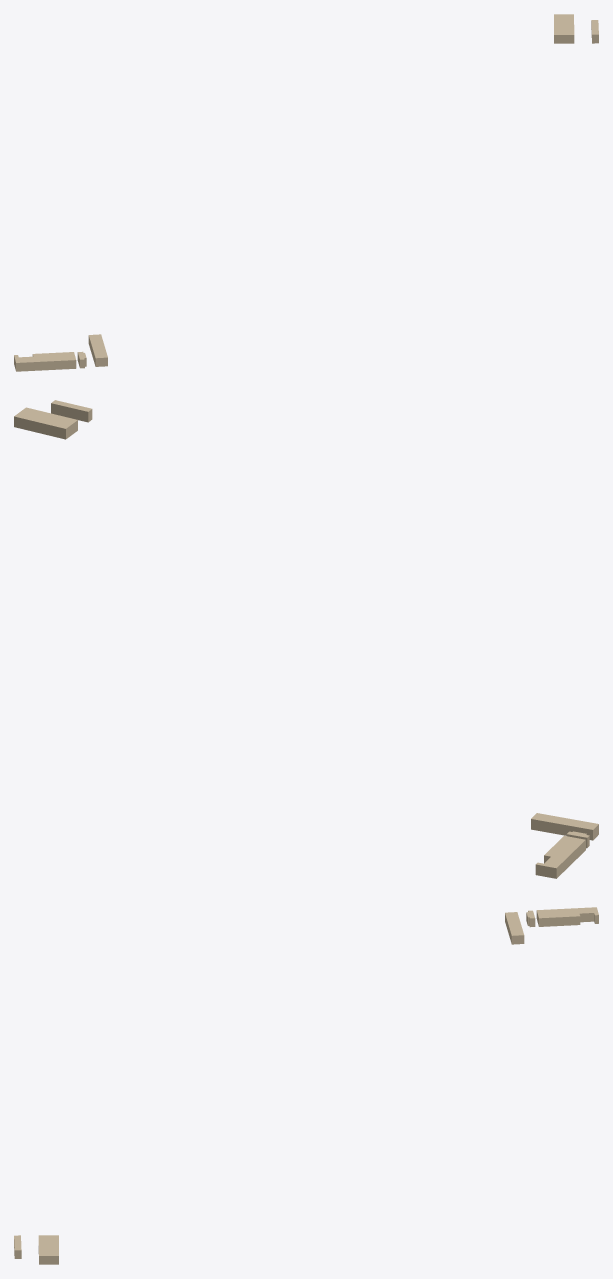
Rendered from -19_28-estimated-coarse.glb.
3 renders of one model, top to bottom at view 1: azimuth 90°, elevation 25°; view 2: azimuth 150°, elevation 25°; view 3: azimuth 270°, elevation 25°, orthographic. The views are drawn at different scales.
Size of the model in its own units: 1027 by 12 by 728.
